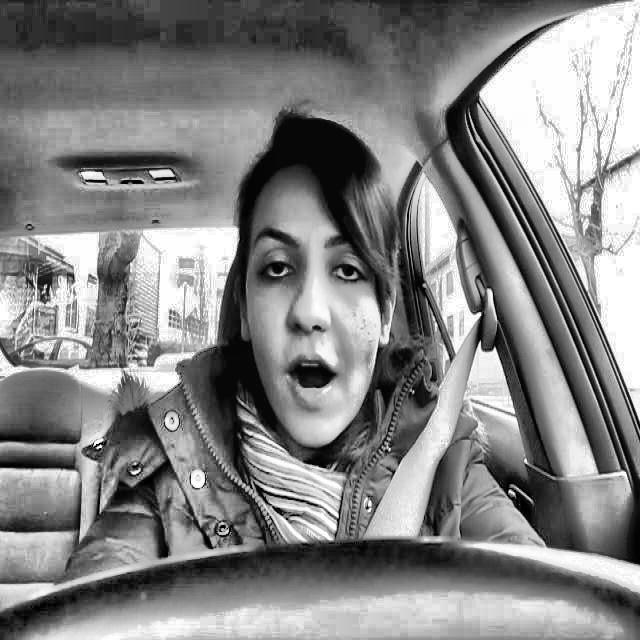open_eyes: (320, 245, 378, 297), (248, 244, 305, 296)
open_mouth: (265, 344, 358, 415)
